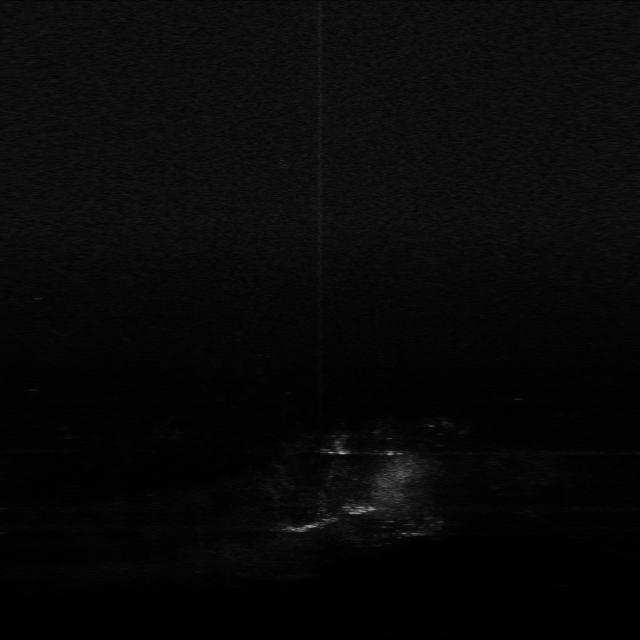rov: (342, 502, 378, 518)
